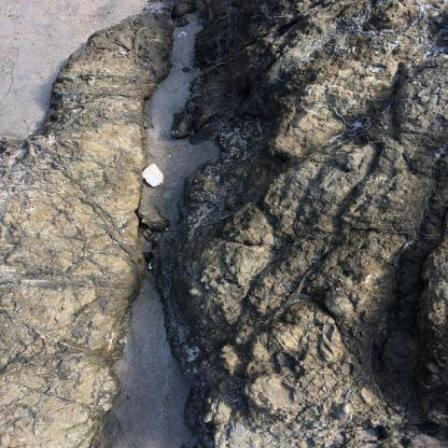Styrofoam piece: (144, 165, 165, 188)
